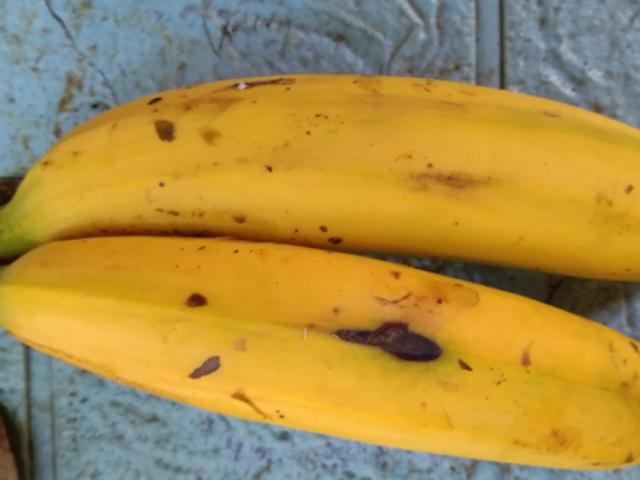freshripe: (40, 50, 639, 282)
ripe: (19, 222, 639, 479)
